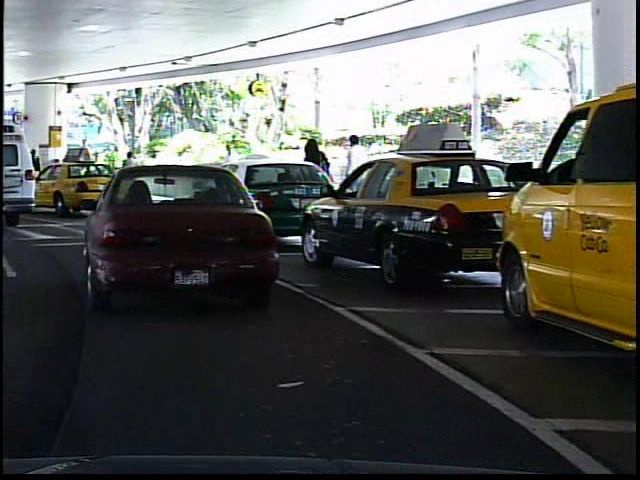person: (296, 134, 331, 230), (338, 129, 370, 224), (216, 138, 243, 205), (114, 146, 140, 198)
